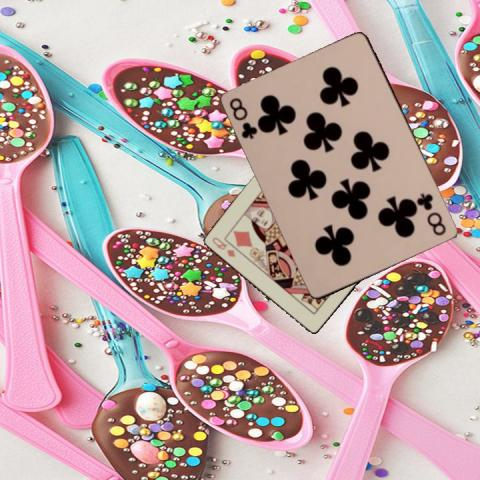8c: (415, 190, 448, 237), (227, 94, 259, 140)
Qd: (210, 234, 238, 259)
